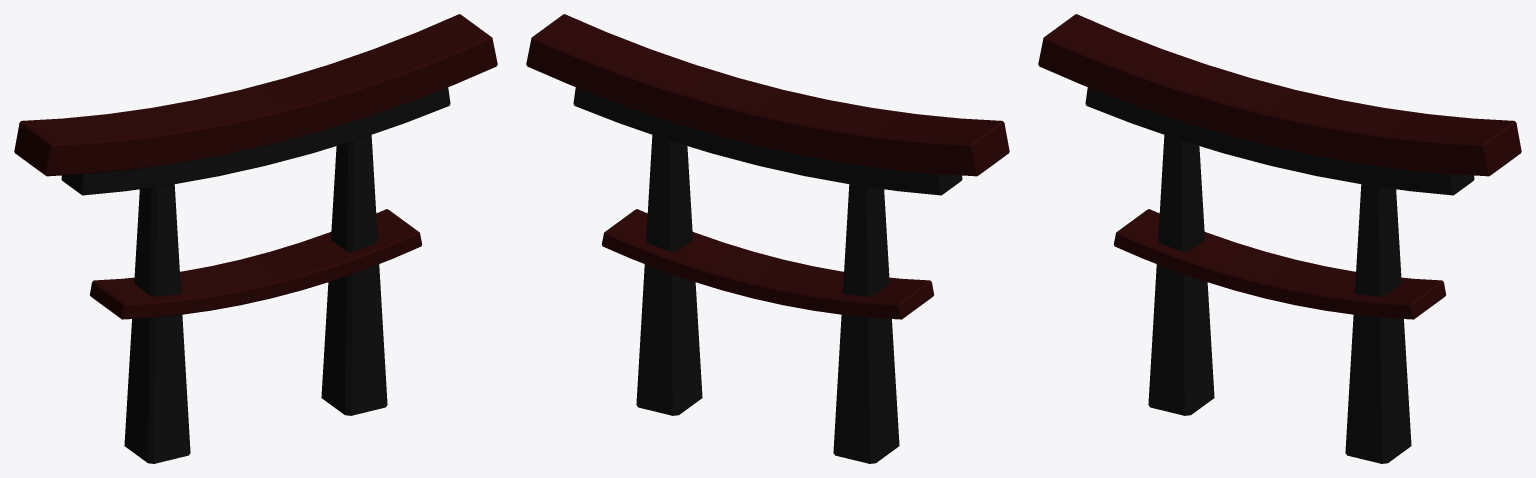
File: Pont_Temple1.FBX
3 renders of one model, left to right at view 1: azimuth 30°, elevation 25°; view 2: azimuth 150°, elevation 25°; view 3: azimuth 330°, elevation 25°, orthographic.
Visible parts, largest first — view 1: Pont_Temple; view 2: Pont_Temple; view 3: Pont_Temple.
Boxes of the visible parts, bbox=[...] form: Pont_Temple: bbox=[14, 14, 497, 463]; Pont_Temple: bbox=[526, 14, 1009, 463]; Pont_Temple: bbox=[1038, 14, 1521, 463].
Bounding box in the file's own units: 750 × 549 × 94.64.
